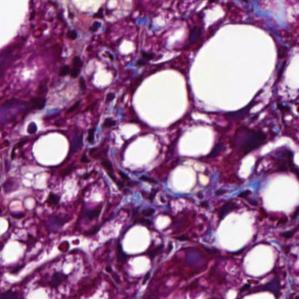inflammation: (89, 16, 166, 67), (79, 110, 128, 151), (189, 188, 241, 221)
